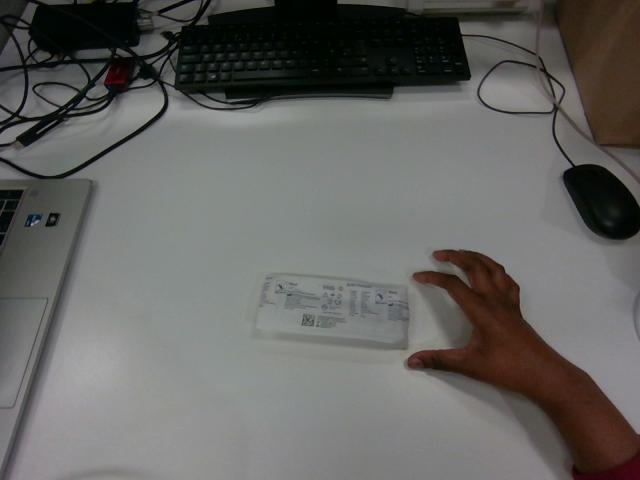syringe: (256, 274, 408, 348)
